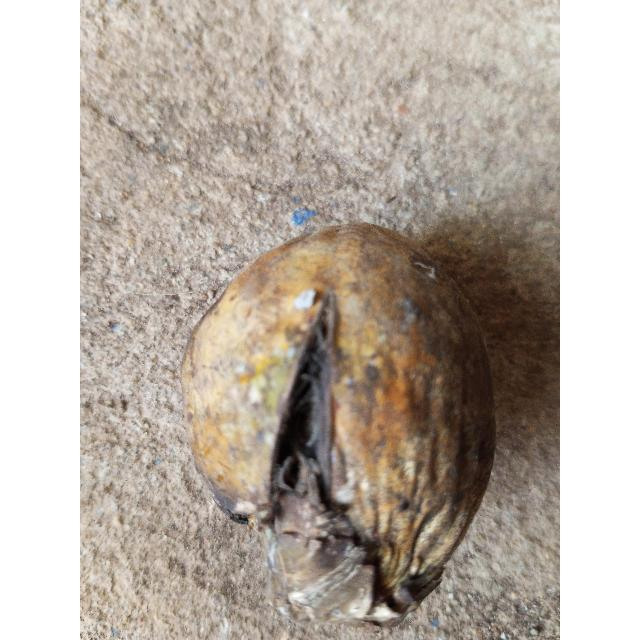damaged: (180, 223, 496, 631)
